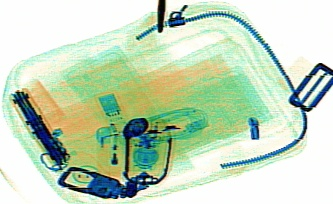lighter: (95, 125, 119, 192)
